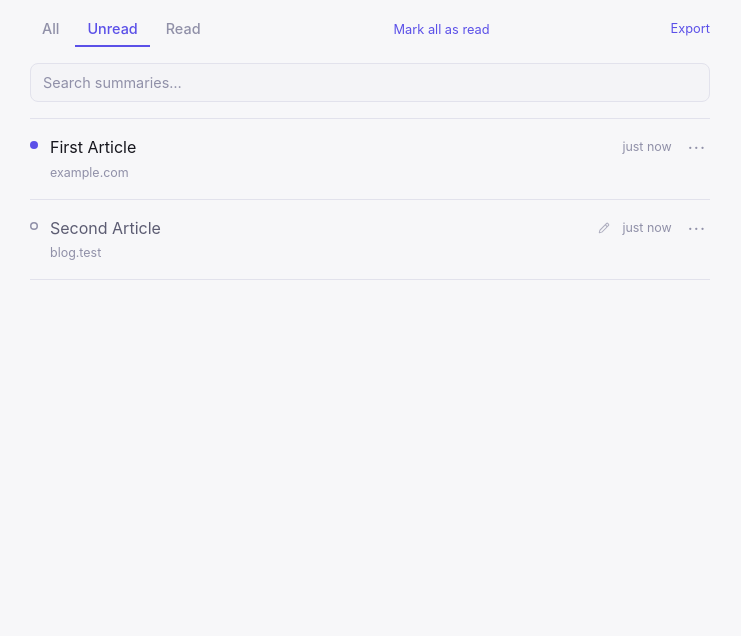
Test: ReadingList › should expand an item on click
This screenshot has width=741, height=636.
What coordinates should you click on to do the following:
click the button "First Article"
I would click on:
 (93, 147)
Its box is [50,135,610,161].
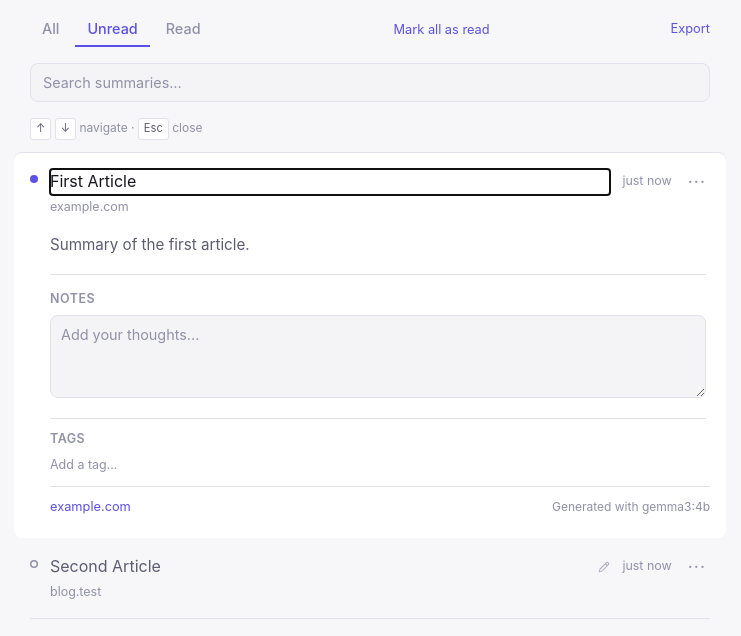
Now the text "Summary of the first article." is shown, box [50,236,250,254]
